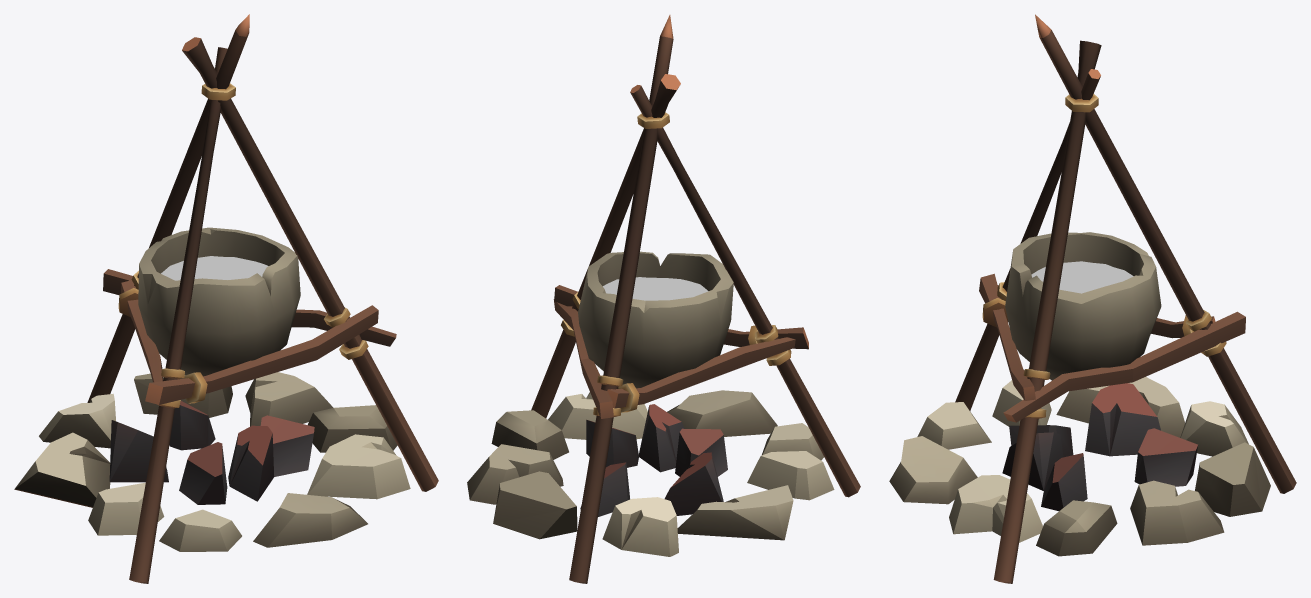
Rendered from Cooking_Fire_1A.fbx.
The picture shows the model from 3 angles, left to right: view 1: azimuth 30°, elevation 25°; view 2: azimuth 150°, elevation 25°; view 3: azimuth 270°, elevation 25°; orthographic projection. The views are drawn at different scales.
Parts seen in each view (by area): view 1: Cooking_Fire_1A; view 2: Cooking_Fire_1A; view 3: Cooking_Fire_1A.
Part boxes in pixels (<box>): Cooking_Fire_1A: <box>14,14,438,583</box>; Cooking_Fire_1A: <box>467,15,860,583</box>; Cooking_Fire_1A: <box>889,14,1296,583</box>.
Size of the model in its own units: 190 by 261 by 195.
